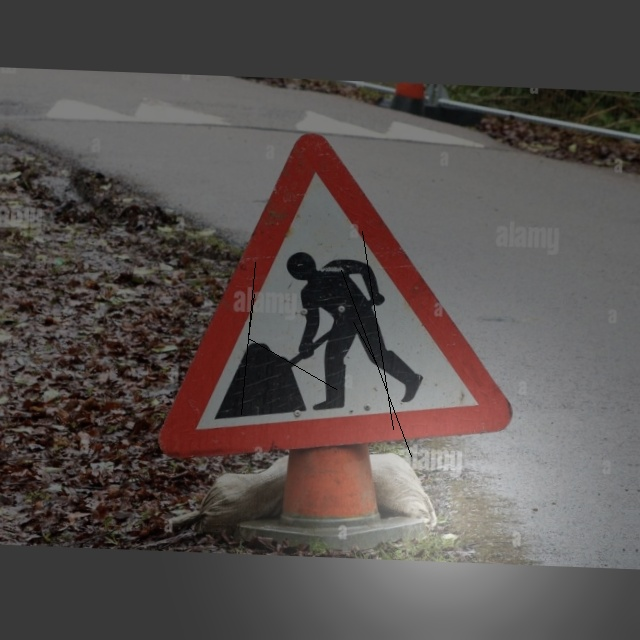Men_at_Work: (162, 133, 535, 461)
